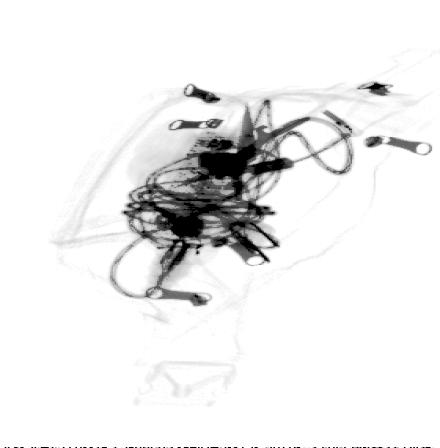Scissors: (166, 100, 321, 217)
